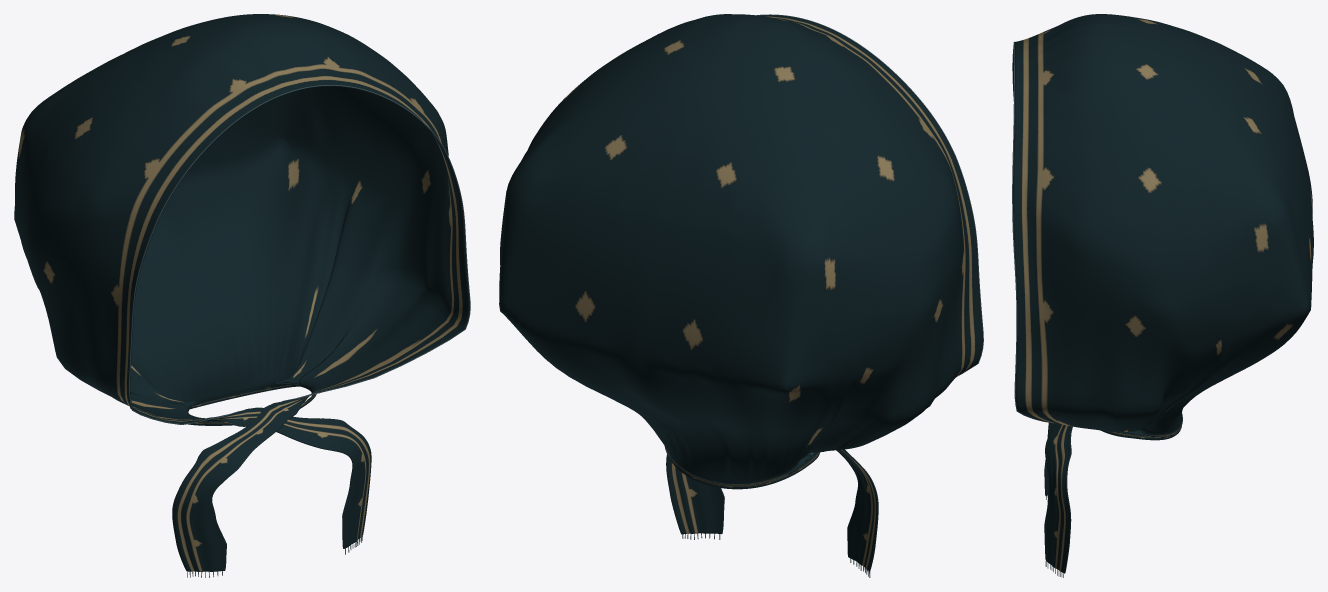
File: Masculine-flow-sweatshirt-pashmina249-headgear.glb
The picture shows the model from 3 angles, left to right: view 1: azimuth 30°, elevation 25°; view 2: azimuth 150°, elevation 25°; view 3: azimuth 270°, elevation 25°; orthographic projection. The views are drawn at different scales.
Parts seen in each view (by area): view 1: 226 headgear / Headwear / continuous woven pashmina239, 226 headgear / Headwear / face edge239; view 2: 226 headgear / Headwear / continuous woven pashmina239, 226 headgear / Headwear / face edge239; view 3: 226 headgear / Headwear / continuous woven pashmina239, 226 headgear / Headwear / face edge239.
Part boxes in pixels (left/top/right/bottom): 226 headgear / Headwear / continuous woven pashmina239: left=14, top=14, right=469, bottom=571; 226 headgear / Headwear / face edge239: left=129, top=85, right=470, bottom=424; 226 headgear / Headwear / continuous woven pashmina239: left=499, top=14, right=982, bottom=571; 226 headgear / Headwear / face edge239: left=757, top=14, right=983, bottom=376; 226 headgear / Headwear / continuous woven pashmina239: left=1013, top=14, right=1313, bottom=573; 226 headgear / Headwear / face edge239: left=1012, top=41, right=1049, bottom=422.
Size of the model in its own units: 1.12 by 1.44 by 0.7747.
Materials: 3 (1 with a texture image).
